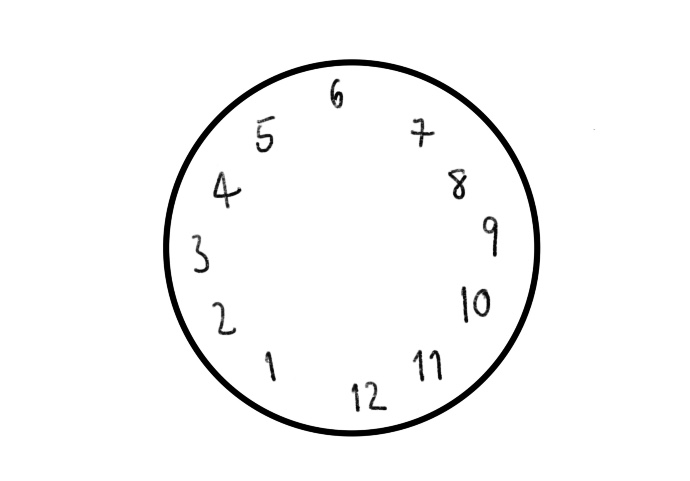eight: (444, 164, 471, 206)
eleven: (409, 348, 445, 384)
five: (255, 115, 275, 155)
four: (211, 165, 240, 210)
nine: (481, 211, 501, 257)
one: (261, 345, 281, 383)
seven: (404, 119, 436, 147)
six: (325, 77, 346, 110)
ten: (457, 281, 494, 326)
three: (188, 227, 212, 275)
twelve: (346, 375, 389, 417)
two: (209, 296, 242, 340)
